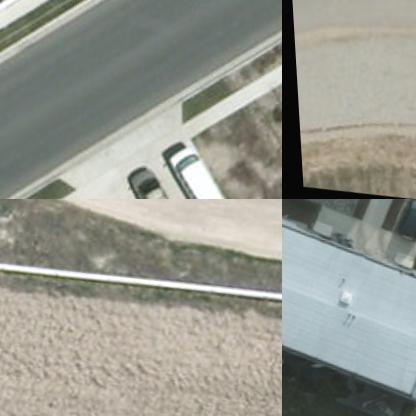car: (109, 155, 184, 198), (392, 199, 415, 247)
van: (148, 135, 240, 198)
